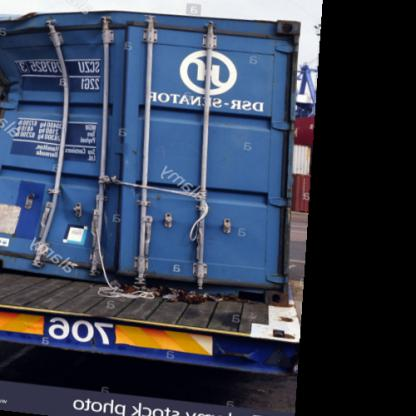Damage: (0, 11, 123, 278)
